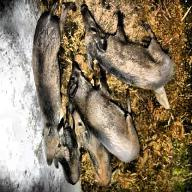boar: (79, 2, 174, 87), (62, 68, 142, 158), (34, 8, 63, 173), (71, 112, 104, 170)
